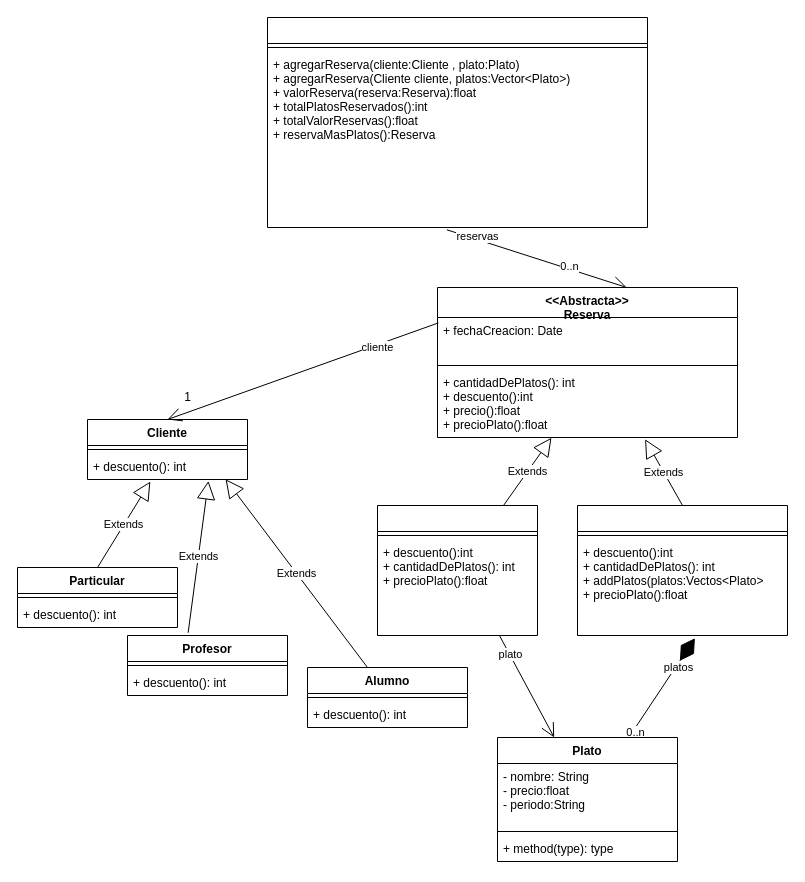
Some shapes in this 805 by 882 pixel diagram are drawn without their labels. Here are the shapes that lost their labels. From the top down, the box of each, then its label:
(266, 16, 648, 228): Comedor
(376, 504, 538, 636): Simple
(576, 504, 788, 636): Multiple
